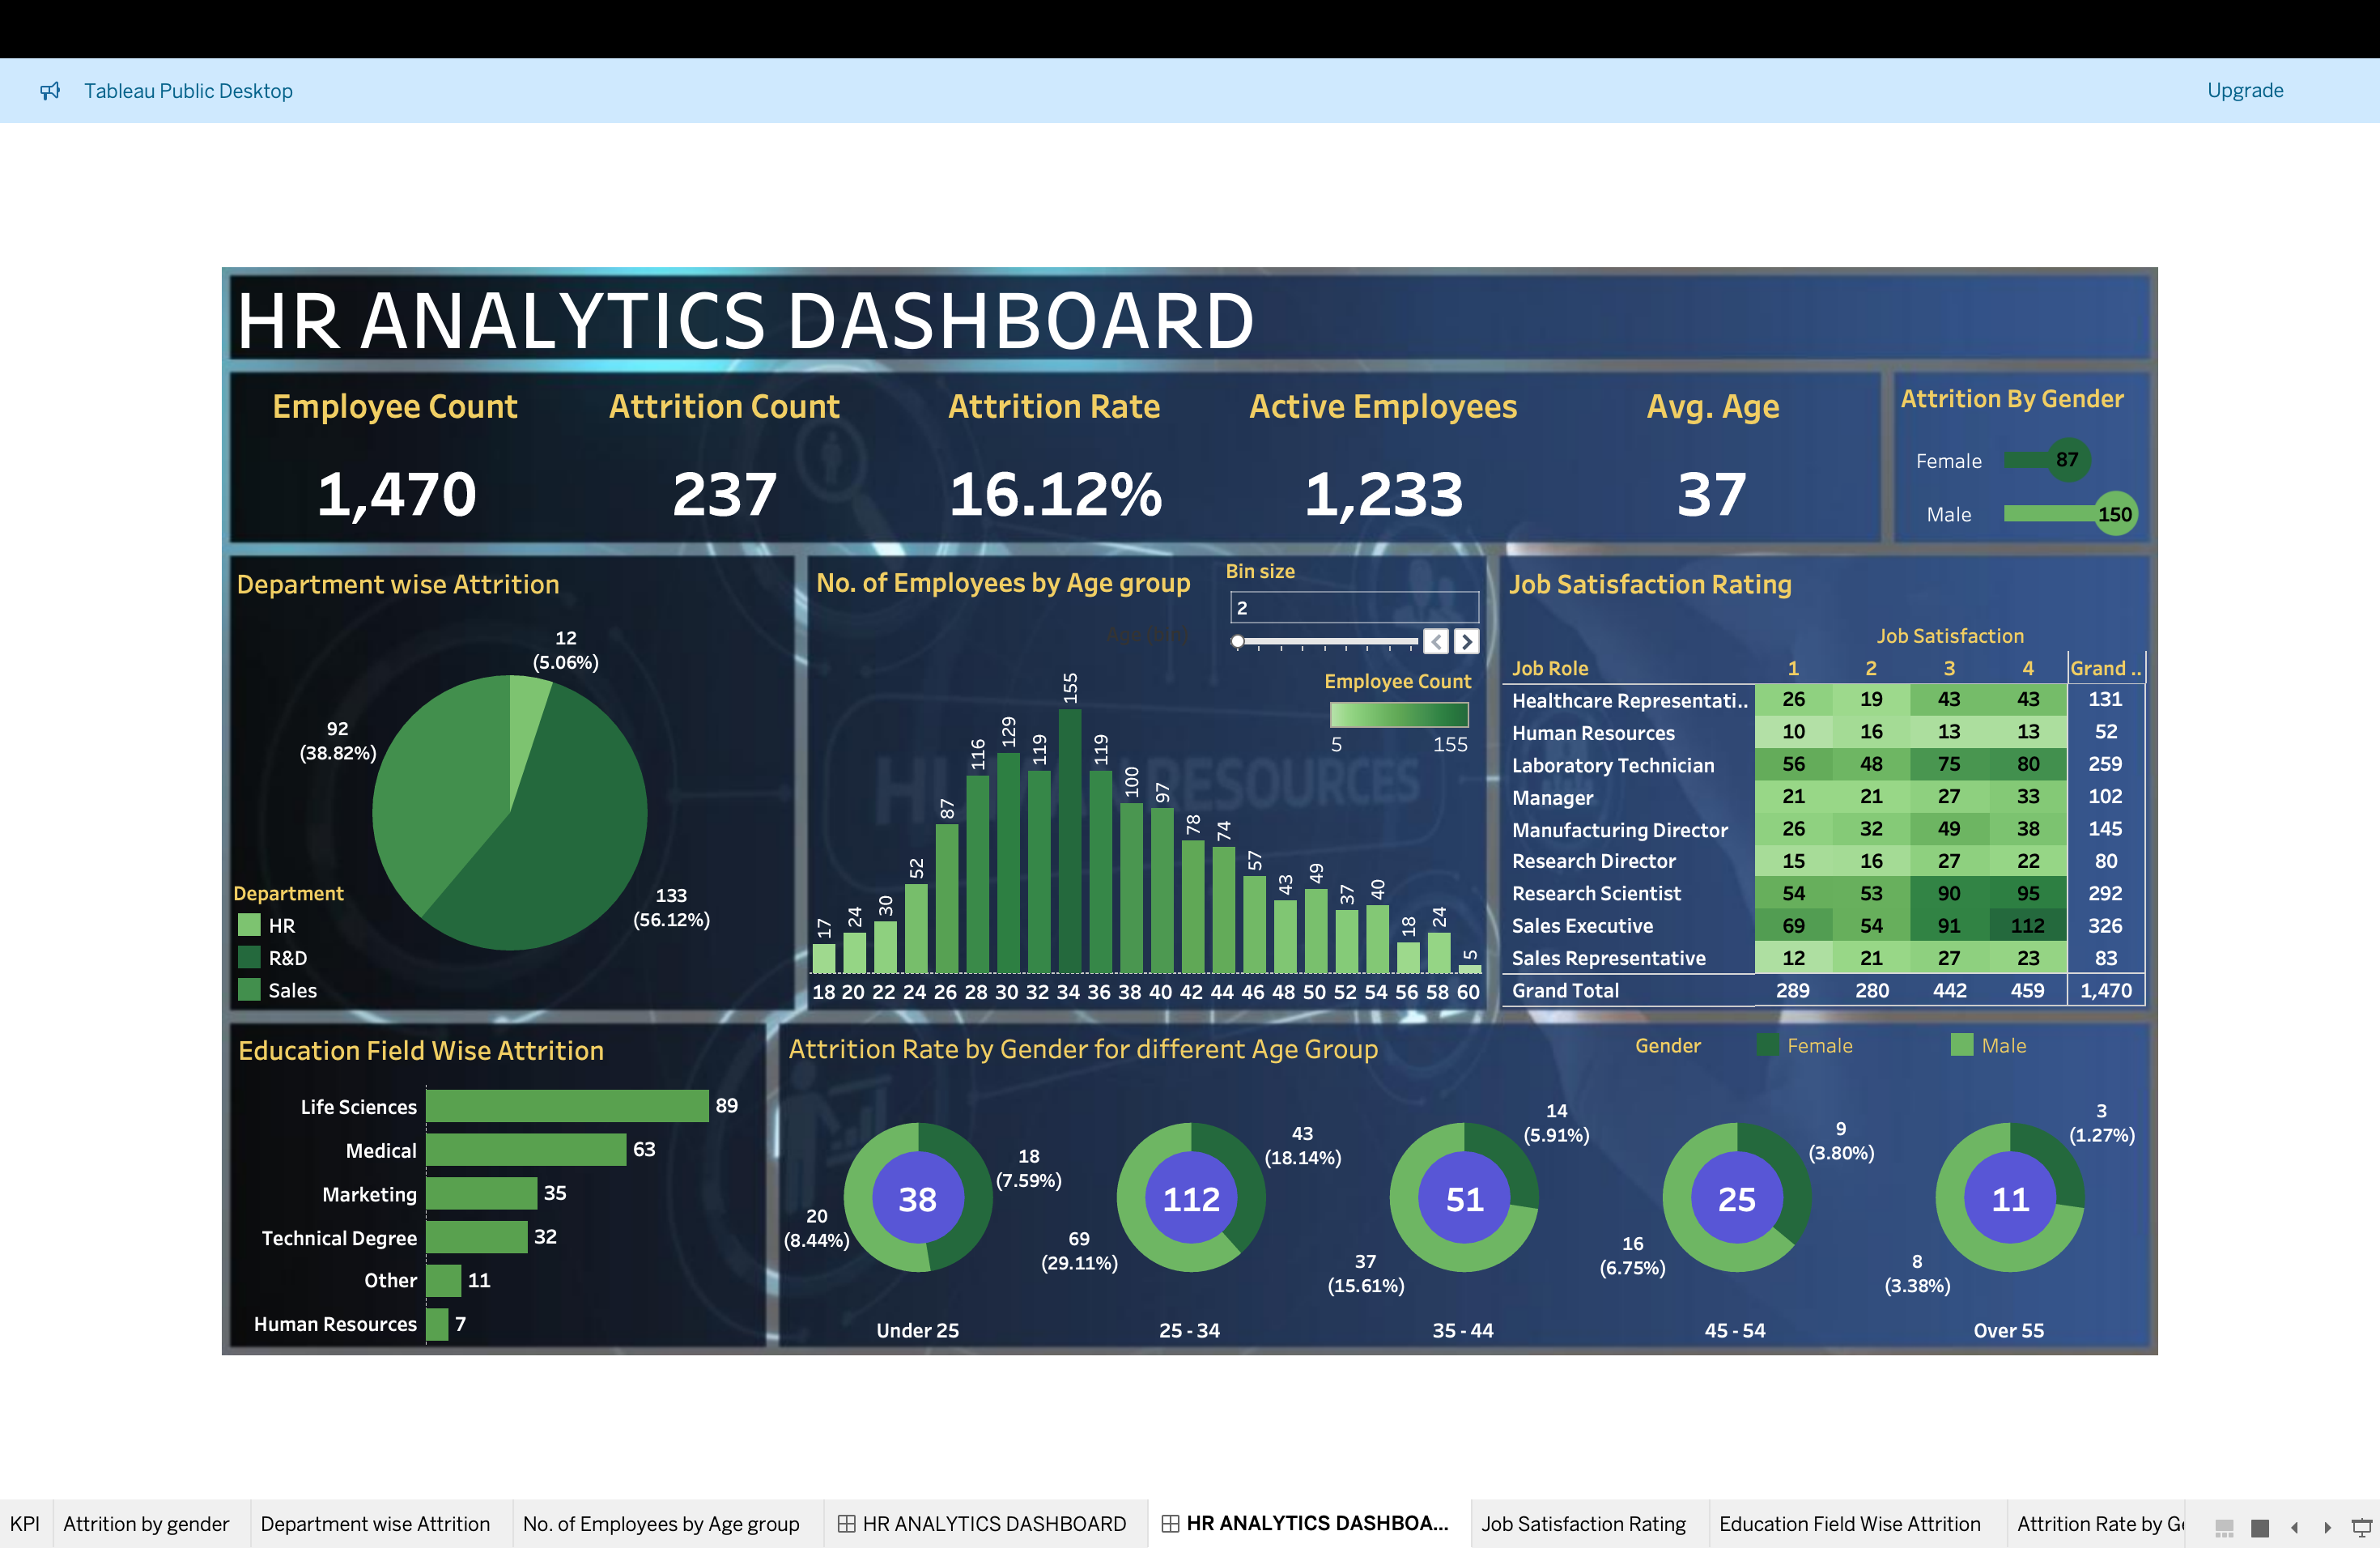

The page's visual inventory and layout, read from the dashboard file:
{"tool":"tableau","page":{"name":"HR ANALYTICS DASHBOARD","canvas":[1220,730],"ordinal":0},"visuals":[{"type":"image","param":"/Users/mohittiwary/Downloads/HR background.pptx.jpg","box":[8,8,1204,714]},{"type":"text","box":[17,34,733,52]},{"type":"worksheet","title":"KPI","mark":"Automatic","box":[18,94,1017,105]},{"type":"worksheet","title":"Attrition by gender","mark":"Automatic","rows":["Gender"],"cols":["Calculation_246149892917473280","Calculation_246149892917473280"],"box":[1045,95,155,103]},{"type":"worksheet","title":"No. of Employees by Age group","mark":"Automatic","rows":["Employee Count"],"cols":["Age (bin)"],"box":[375,208,417,278]},{"type":"parameter","param":"[Parameters].[Parameter 1]","box":[632,208,160,67]},{"type":"worksheet","title":"Department wise Attrition","mark":"Pie","box":[17,209,346,277]},{"type":"worksheet","title":"Job Satisfaction Rating","mark":"Square","rows":["Job Role"],"cols":["Job Satisfaction"],"box":[803,209,398,277]},{"type":"legend","title":"No. of Employees by Age group","param":"[federated.056767l1fafxvw12ylj9z1l9x52a].[sum:Employee Count:qk]","box":[693,276,94,56]},{"type":"legend","title":"Department wise Attrition","param":"[federated.056767l1fafxvw12ylj9z1l9x52a].[none:Department:nk]","box":[19,407,99,79]},{"type":"worksheet","title":"Attrition Rate by Gender for different Age Group","mark":"Pie","rows":["Calculation_411305340525215745","Calculation_411305340525215745"],"cols":["CF_age band"],"box":[358,496,843,199]},{"type":"worksheet","title":"Education Field Wise Attrition","mark":"Automatic","rows":["Education Field"],"cols":["Calculation_246149892917473280"],"box":[18,497,329,198]},{"type":"legend","title":"Attrition Rate by Gender for different Age Group","param":"[federated.056767l1fafxvw12ylj9z1l9x52a].[none:Gender:nk]","box":[885,499,315,28]}]}

Visuals, with their boxes on the page's 1220x730 design canvas (x1, y1, x2, y2). These are canvas units, not pixel positions in the 2380x1548 screenshot, which may show the page scaled, cropped or inside an application window:
image: l=8, t=8, r=1212, b=722
text: l=17, t=34, r=750, b=86
"KPI" worksheet: l=18, t=94, r=1035, b=199
"Attrition by gender" worksheet: l=1045, t=95, r=1200, b=198
"No. of Employees by Age group" worksheet: l=375, t=208, r=792, b=486
parameter: l=632, t=208, r=792, b=275
"Department wise Attrition" worksheet (Pie marks): l=17, t=209, r=363, b=486
"Job Satisfaction Rating" worksheet (Square marks): l=803, t=209, r=1201, b=486
"No. of Employees by Age group" legend: l=693, t=276, r=787, b=332
"Department wise Attrition" legend: l=19, t=407, r=118, b=486
"Attrition Rate by Gender for different Age Group" worksheet (Pie marks): l=358, t=496, r=1201, b=695
"Education Field Wise Attrition" worksheet: l=18, t=497, r=347, b=695
"Attrition Rate by Gender for different Age Group" legend: l=885, t=499, r=1200, b=527
